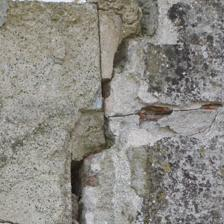Crack: (2, 0, 82, 63), (76, 21, 148, 84), (54, 27, 170, 66)
